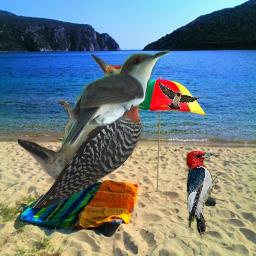Cuckoo: (62, 50, 171, 148)
Swallow: (158, 81, 200, 109)
Woodpecker: (18, 52, 147, 208), (184, 151, 221, 241)
